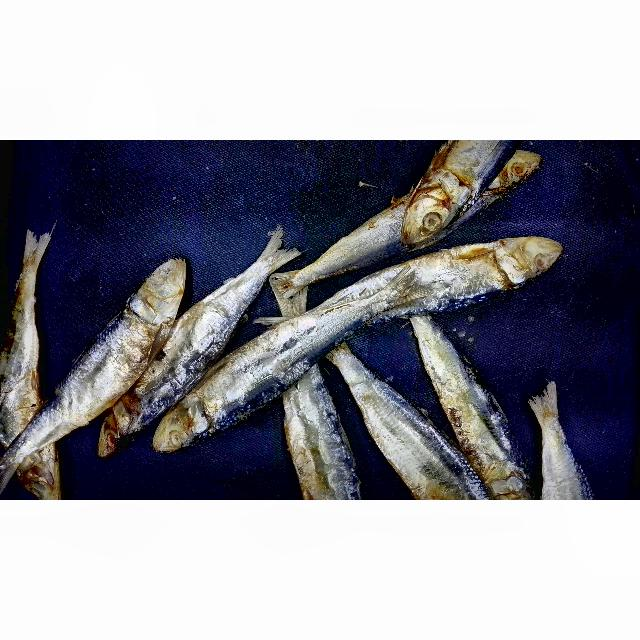Grade_B_Body: (37, 301, 159, 433), (416, 348, 542, 468)
Grade_B_Head: (122, 246, 192, 325), (494, 230, 573, 293), (141, 396, 212, 464), (399, 192, 457, 250)
Grade_B_Tail: (0, 391, 92, 500), (519, 371, 601, 483), (213, 228, 302, 329), (1, 228, 58, 347), (281, 227, 371, 302)
